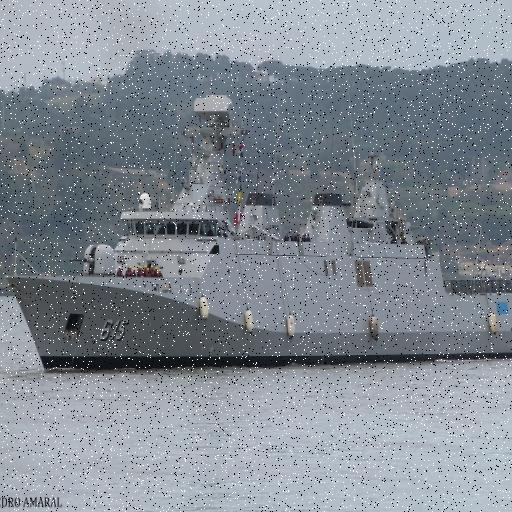Fragata: (1, 74, 512, 382)
